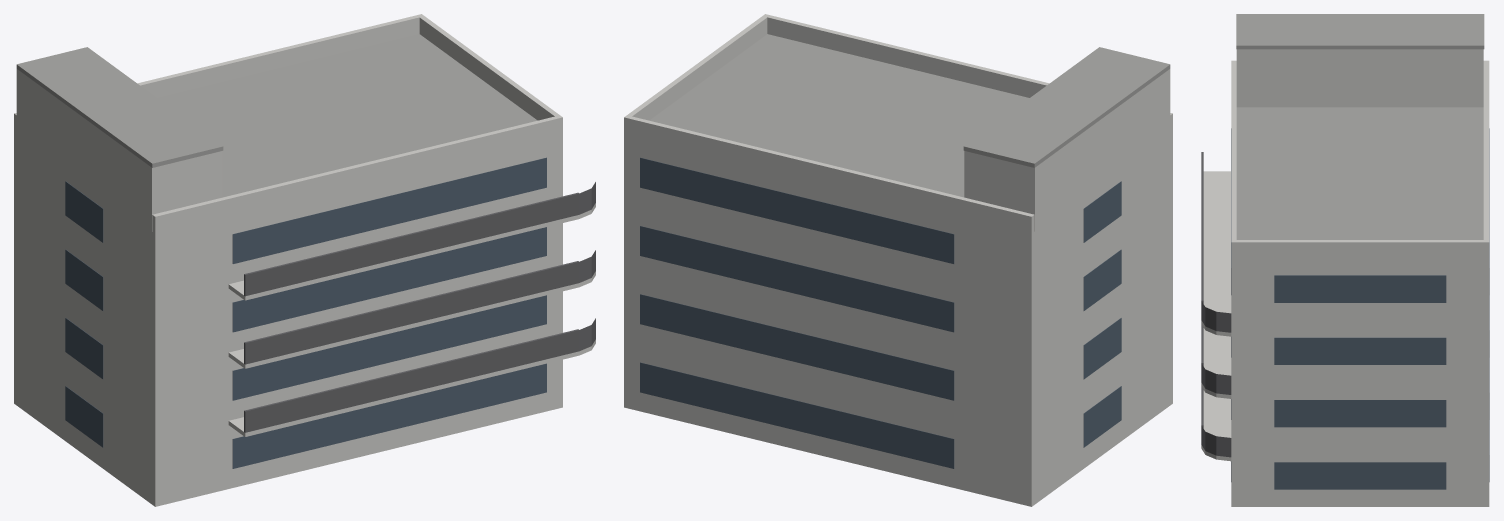
File: apartment.zfix-v13.lod2.glb
The picture shows the model from 3 angles, left to right: view 1: azimuth 30°, elevation 25°; view 2: azimuth 150°, elevation 25°; view 3: azimuth 270°, elevation 25°; orthographic projection. The views are drawn at different scales.
Visible parts, largest first — view 1: apartment; view 2: apartment; view 3: apartment.
Part boxes in pixels (left/top/right/bottom): apartment: left=14, top=14, right=595, bottom=506; apartment: left=624, top=14, right=1172, bottom=506; apartment: left=1201, top=14, right=1489, bottom=506.
Size of the model in its own units: 21.42 by 16 by 13.42.
